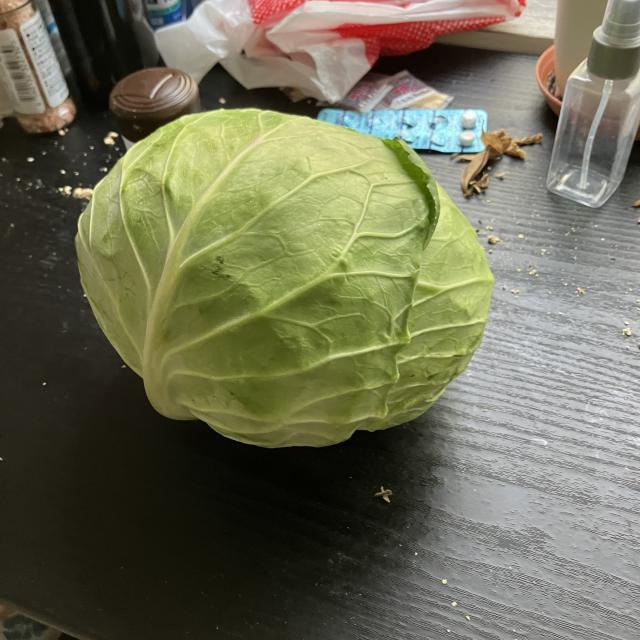cabbage: (71, 106, 496, 456)
